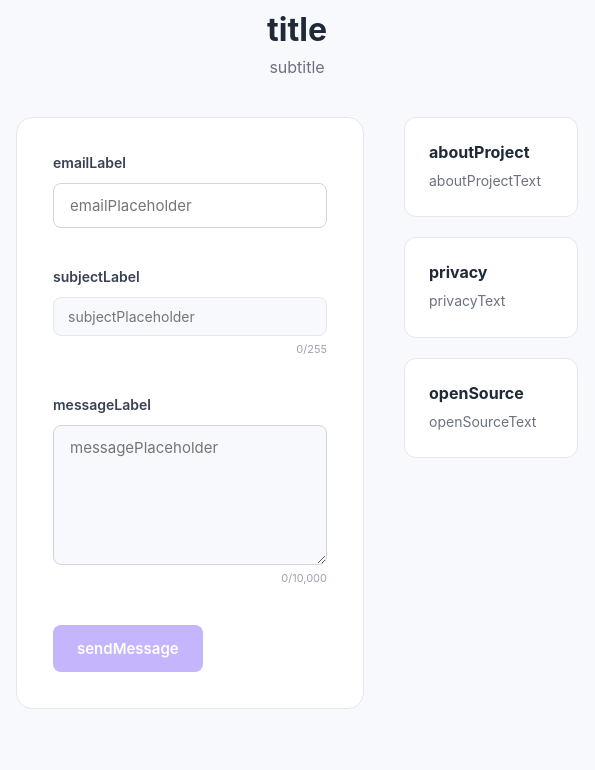
Test: ContactPage › shows error message on submission failure
The width and height of the screenshot is (595, 770).
Step 1. Type "test@example.com" into the field labelled "emailLabel" → (190, 206), box [53,183,327,228]
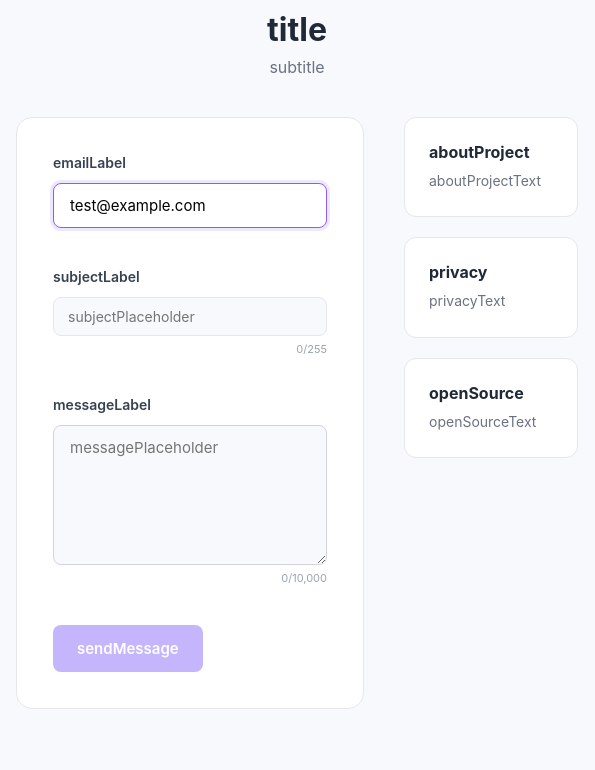
Step 2. Type "Test" into the field labelled "subjectLabel" → (190, 316), box [53,297,327,336]
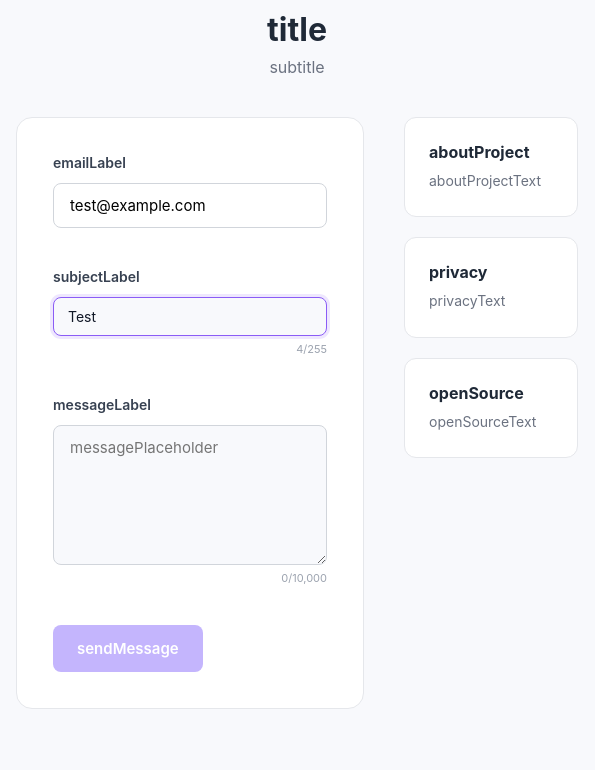
Step 3. Type "Test body" into the text box labelled "messageLabel" → (190, 495), box [53,425,327,565]
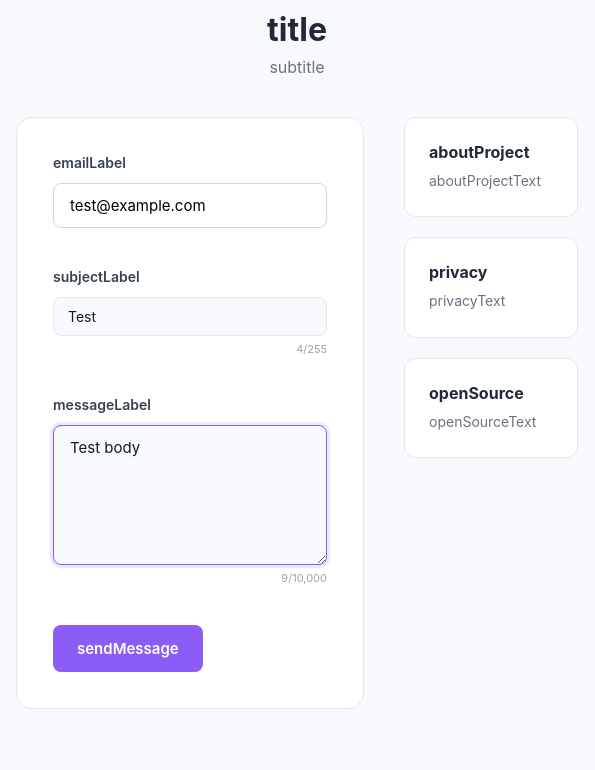
Step 4. Click the button "sendMessage" → click(128, 648), box [53,625,203,672]
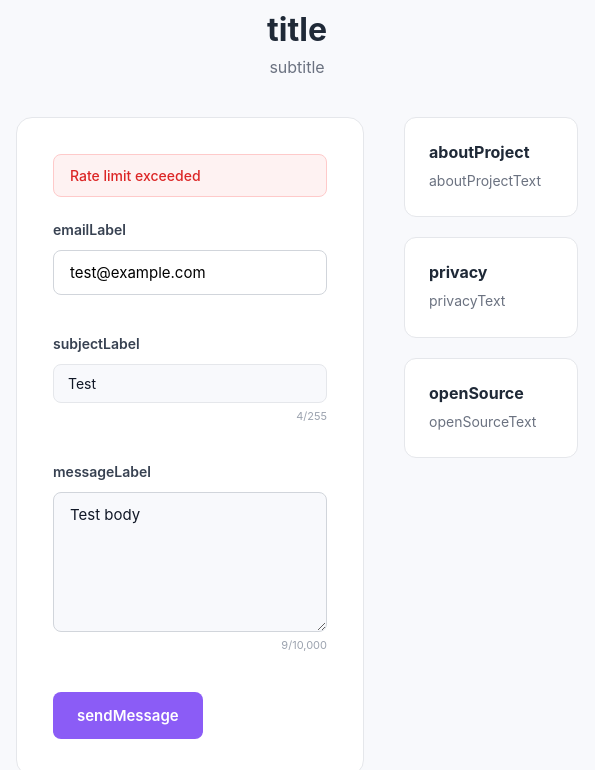
Check: the text "Rate limit exceeded" is shown, box [53,154,327,197]
